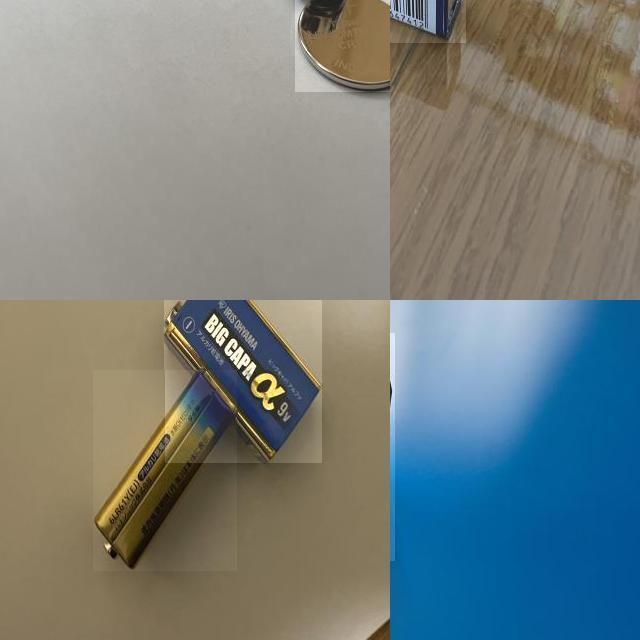9V: (93, 370, 237, 571), (164, 300, 322, 463)
